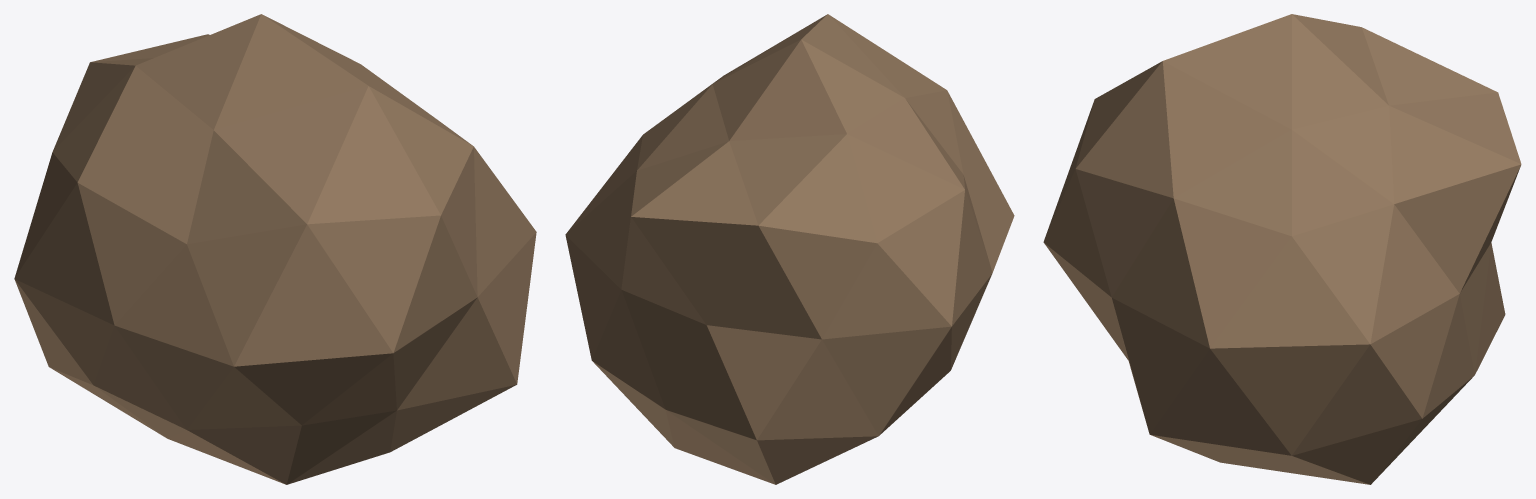
File: andes_rock_runtime.glb
3 views of the same model, side by side, from view 1: azimuth 30°, elevation 25°; view 2: azimuth 150°, elevation 25°; view 3: azimuth 270°, elevation 25° (orthographic). The views are drawn at different scales.
Visible parts, largest first — view 1: Andes rock_BakedPalette.011; view 2: Andes rock_BakedPalette.011; view 3: Andes rock_BakedPalette.011.
Part boxes in pixels (left/top/right/bottom): Andes rock_BakedPalette.011: left=14, top=14, right=536, bottom=484; Andes rock_BakedPalette.011: left=565, top=14, right=1014, bottom=484; Andes rock_BakedPalette.011: left=1043, top=14, right=1521, bottom=484.
Size of the model in its own units: 2 by 1.96 by 2.
